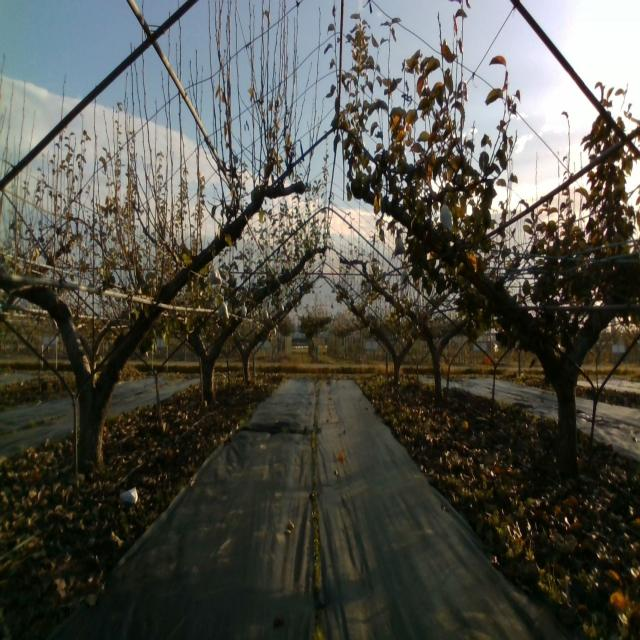pearbags: (439, 197, 454, 232), (217, 296, 229, 320), (393, 236, 406, 256), (209, 265, 222, 285)
